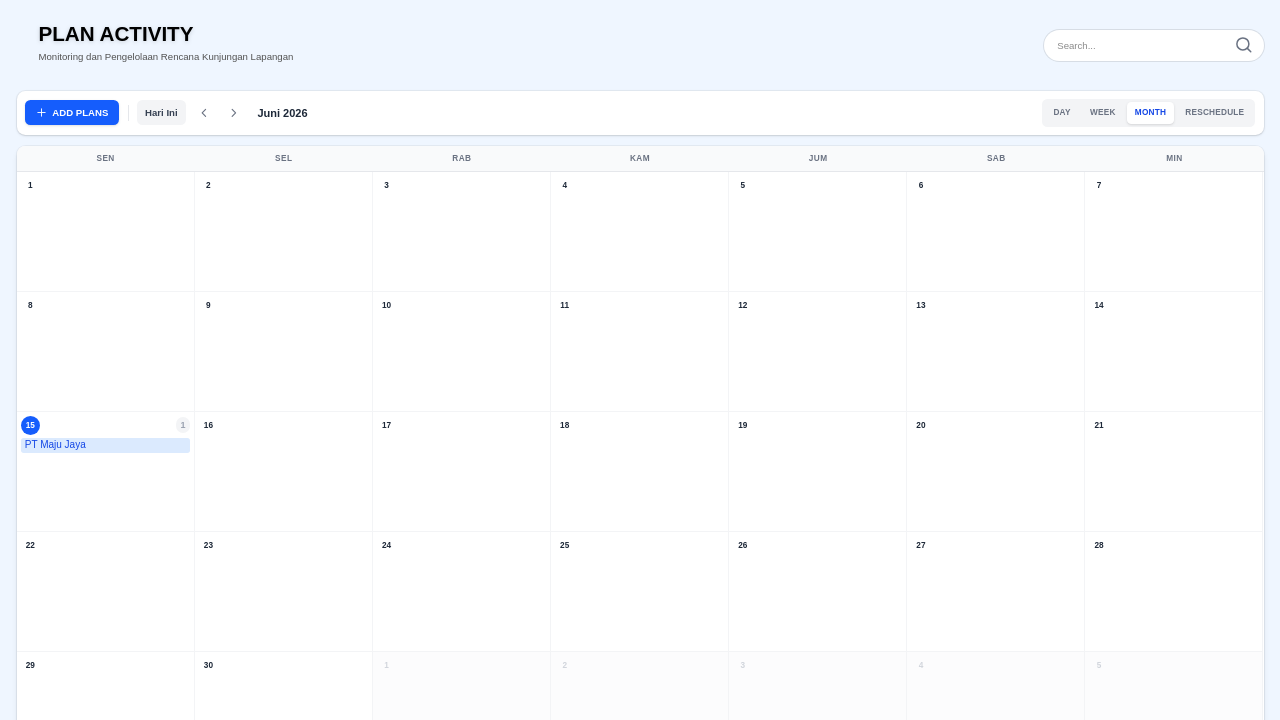
Scenario: PlanActivityPage — Render dasar › menampilkan label yang sesuai saat institusi atau entitas dipilih
Click the text "15".
click(30, 425)  # box left=21, top=416, right=40, bottom=435
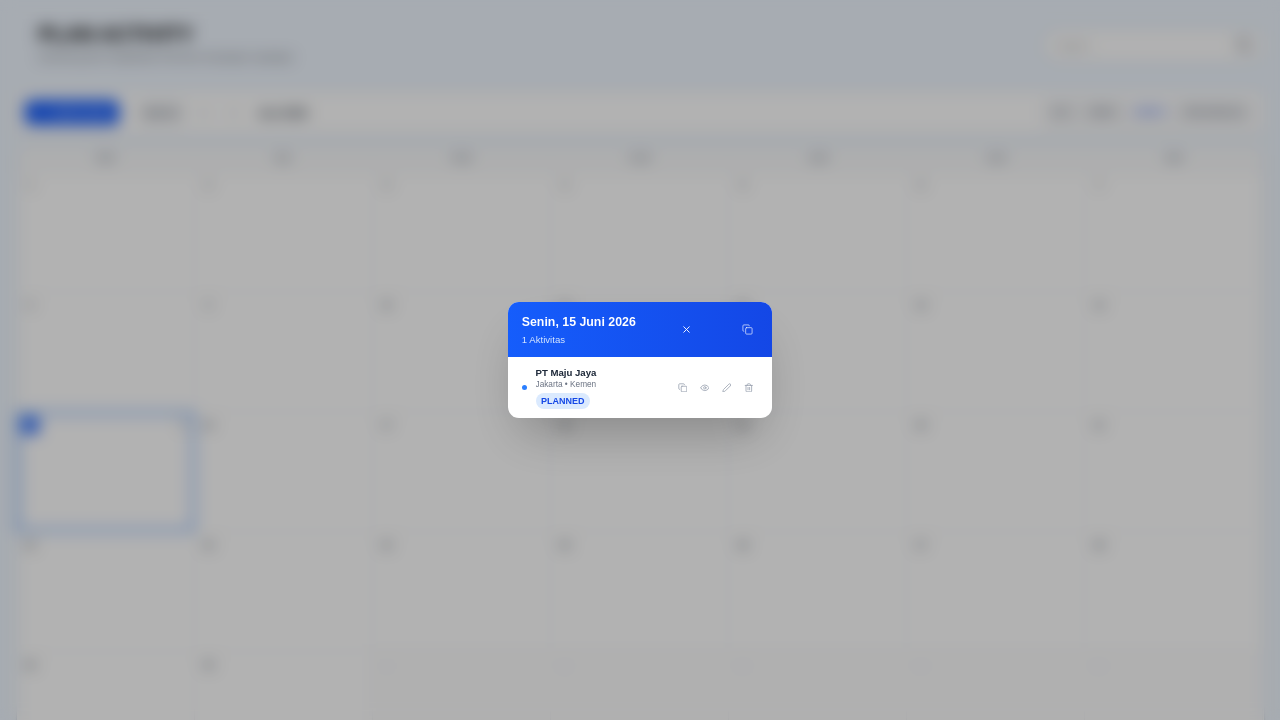
Click the button titled "Lihat Detail".
click(705, 388)  # box left=695, top=378, right=714, bottom=397
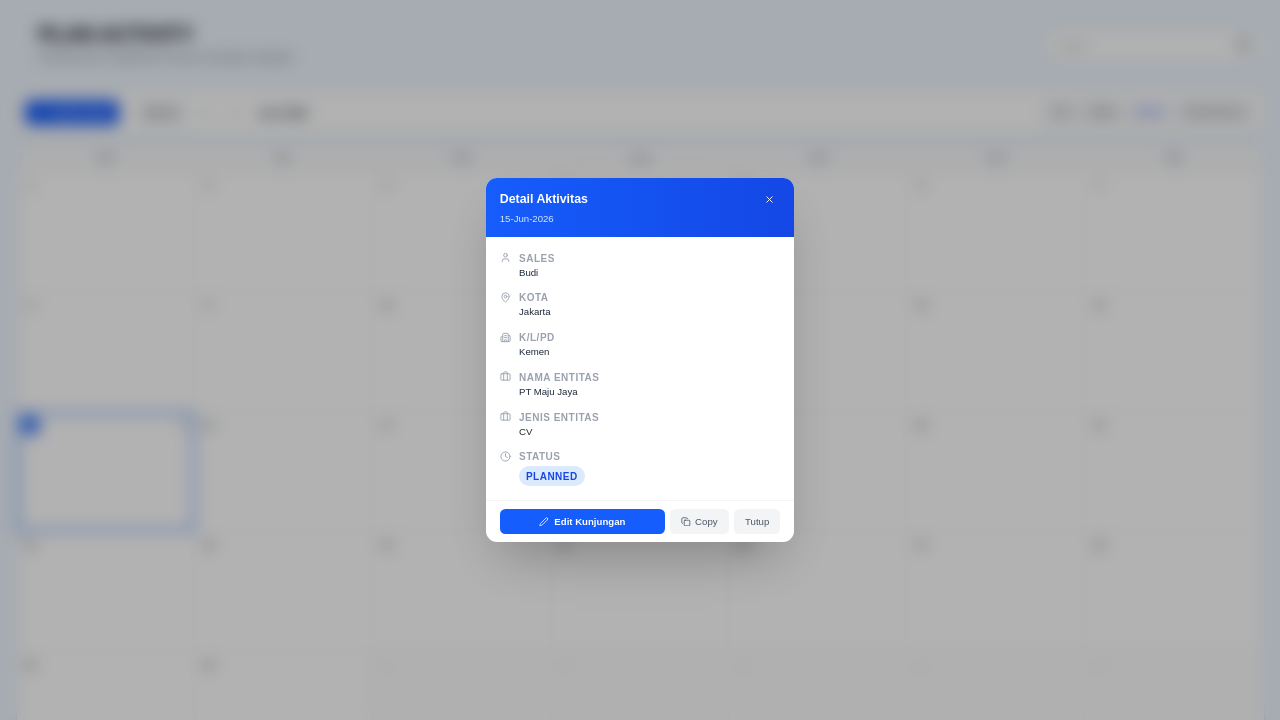
Expected: the text "Nama Entitas" is shown, left=519, top=370, right=600, bottom=385
Expected: the text "Jenis Entitas" is shown, left=519, top=410, right=599, bottom=425
Expected: the text "CV" is shown, left=519, top=426, right=532, bottom=437
